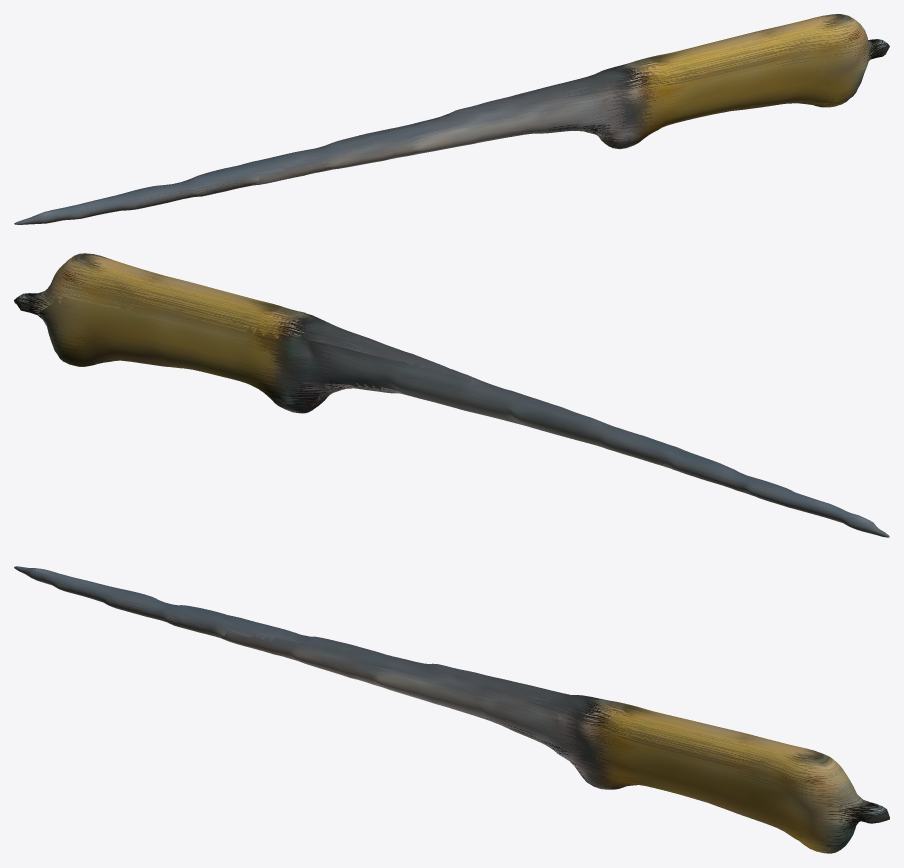
Rendered from kfl-2178.glb.
3 views of the same model, one above another, from view 1: azimuth 30°, elevation 25°; view 2: azimuth 150°, elevation 25°; view 3: azimuth 330°, elevation 25° (orthographic). The views are drawn at different scales.
Parts seen in each view (by area): view 1: geometry_0; view 2: geometry_0; view 3: geometry_0.
Part boxes in pixels (bbox=[...]): geometry_0: bbox=[14, 14, 889, 224]; geometry_0: bbox=[14, 253, 889, 537]; geometry_0: bbox=[14, 566, 889, 853].
Bounding box in the file's own units: 0.9847 × 0.1064 × 0.0992.
1 material, 1 textured.
